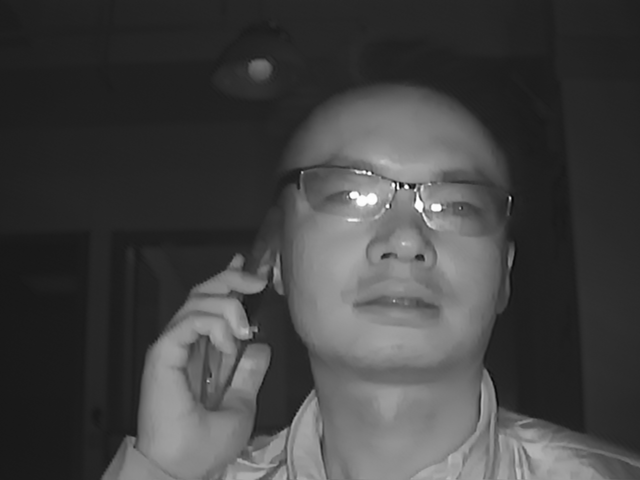hand: (130, 248, 272, 462)
